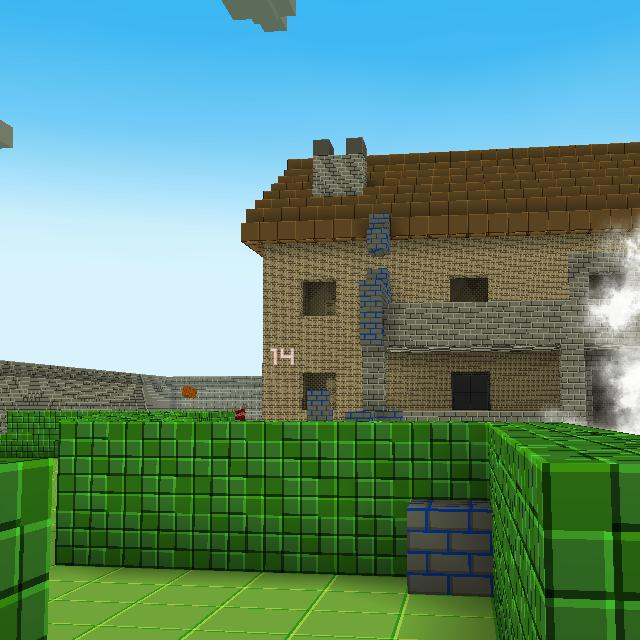enemy: (232, 404, 248, 421)
